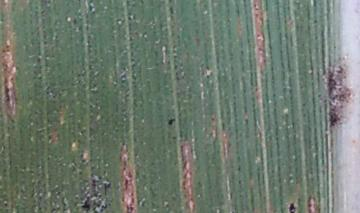tarspot: (77, 194, 94, 213), (88, 173, 101, 194), (284, 198, 301, 213), (101, 173, 112, 195), (166, 112, 178, 130), (96, 196, 108, 213)
